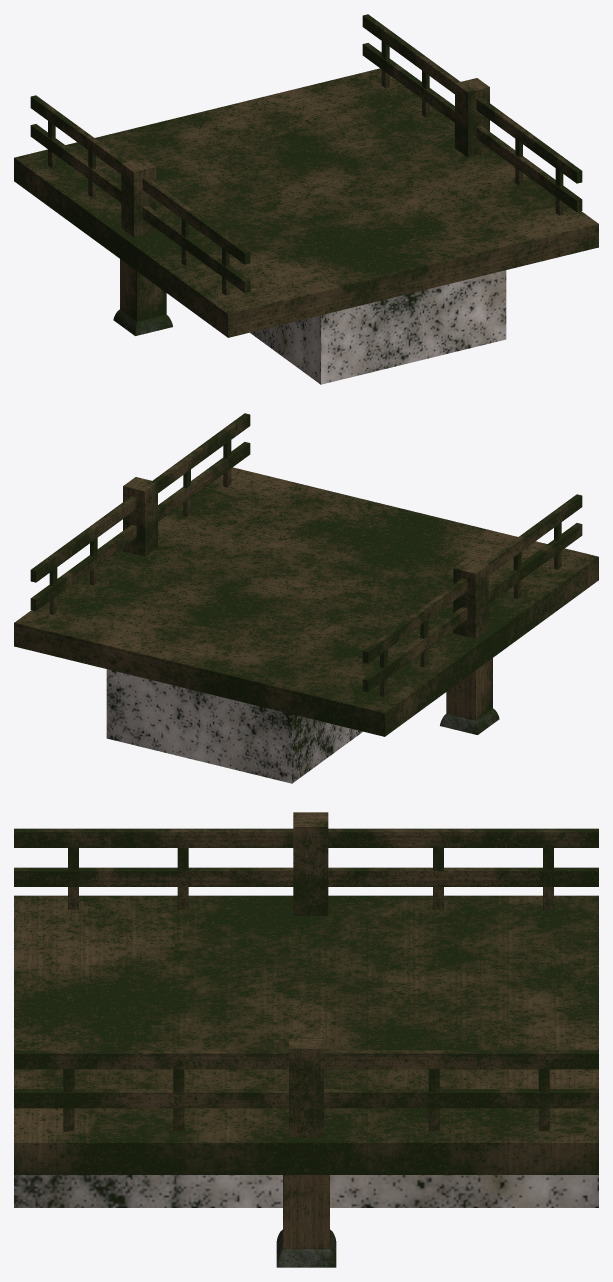
Rendered from shrine_floor_outside_passage_01.fbx.
3 views of the same model, one above another, from view 1: azimuth 30°, elevation 25°; view 2: azimuth 150°, elevation 25°; view 3: azimuth 270°, elevation 25° (orthographic). The views are drawn at different scales.
Parts seen in each view (by area): view 1: shrine_floor_outside_passage_01; view 2: shrine_floor_outside_passage_01; view 3: shrine_floor_outside_passage_01.
Part boxes in pixels (box(x1,y1,x2,y2)): shrine_floor_outside_passage_01: box(14, 14, 598, 384); shrine_floor_outside_passage_01: box(14, 413, 598, 783); shrine_floor_outside_passage_01: box(14, 812, 598, 1267).
Size of the model in its own units: 330 by 134 by 330.
Materials: 1 (1 with a texture image).
